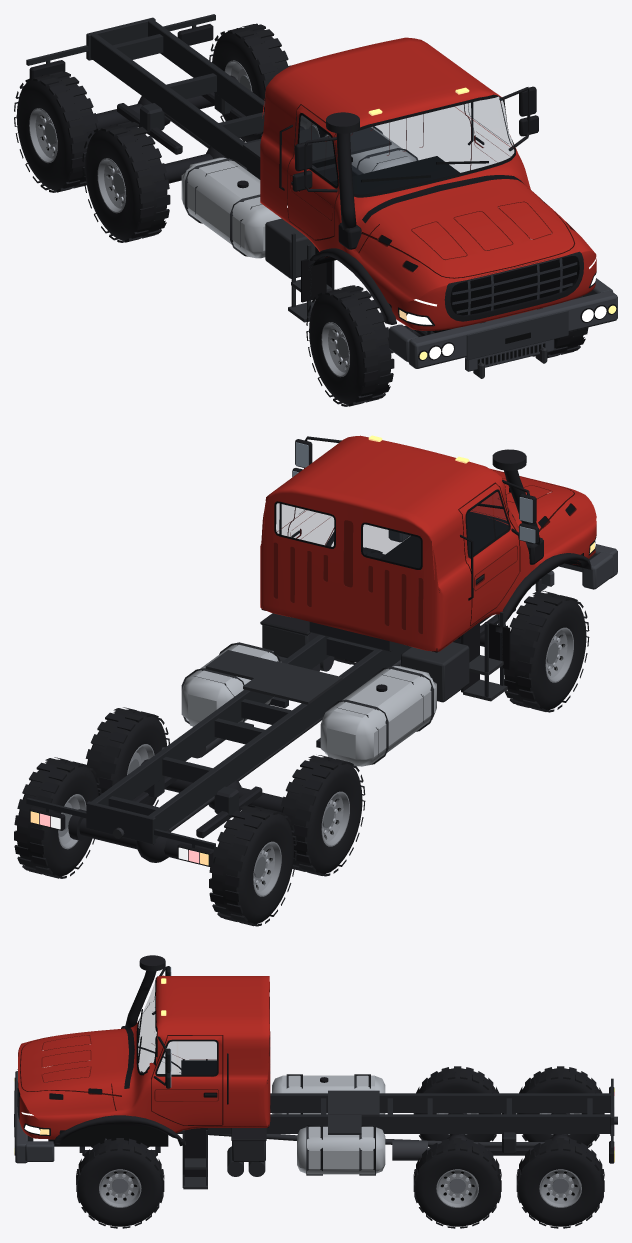
File: car_truck.glb
The picture shows the model from 3 angles, top to bottom: view 1: azimuth 30°, elevation 25°; view 2: azimuth 150°, elevation 25°; view 3: azimuth 270°, elevation 25°; orthographic projection. The views are drawn at different scales.
Visible parts, largest first — view 1: body, wheel_ml, wheel_fl, wheel_rl, wheel_rr, wheel_fr; view 2: body, wheel_rl, wheel_fl, wheel_ml, wheel_rr, wheel_mr; view 3: body, wheel_fr, wheel_mr, wheel_rr, wheel_rl, wheel_ml.
Part boxes in pixels (x1,y1,x2,y2): body: [26, 14, 617, 378]; wheel_ml: [82, 121, 170, 242]; wheel_fl: [306, 285, 394, 406]; wheel_rl: [14, 71, 99, 192]; wheel_rr: [209, 23, 290, 141]; wheel_fr: [532, 296, 588, 358]; body: [26, 435, 617, 866]; wheel_rl: [209, 805, 296, 926]; wheel_fl: [504, 591, 589, 712]; wheel_ml: [281, 755, 365, 876]; wheel_rr: [14, 757, 101, 878]; wheel_mr: [85, 707, 169, 806]; body: [14, 955, 617, 1189]; wheel_fr: [76, 1138, 164, 1228]; wheel_mr: [413, 1138, 501, 1228]; wheel_rr: [516, 1138, 604, 1228]; wheel_rl: [516, 1066, 604, 1148]; wheel_ml: [413, 1066, 501, 1148].
Size of the model in its own units: 3 by 3.05 by 8.5.
